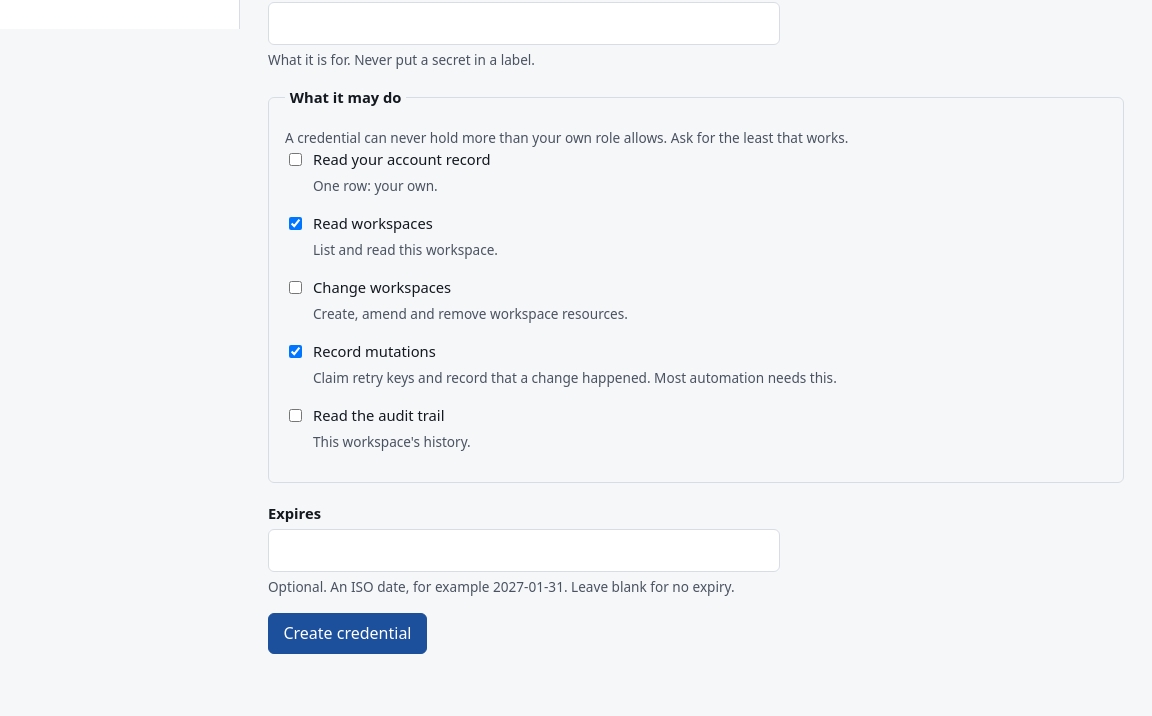
issuing › treats a replay as already-issued rather than as an empty secret
(page scrolled)
What coordinates should you click on to do the following:
click the button "Create credential"
I would click on:
 (347, 634)
Its box is [268, 613, 427, 654].
(page scrolled)
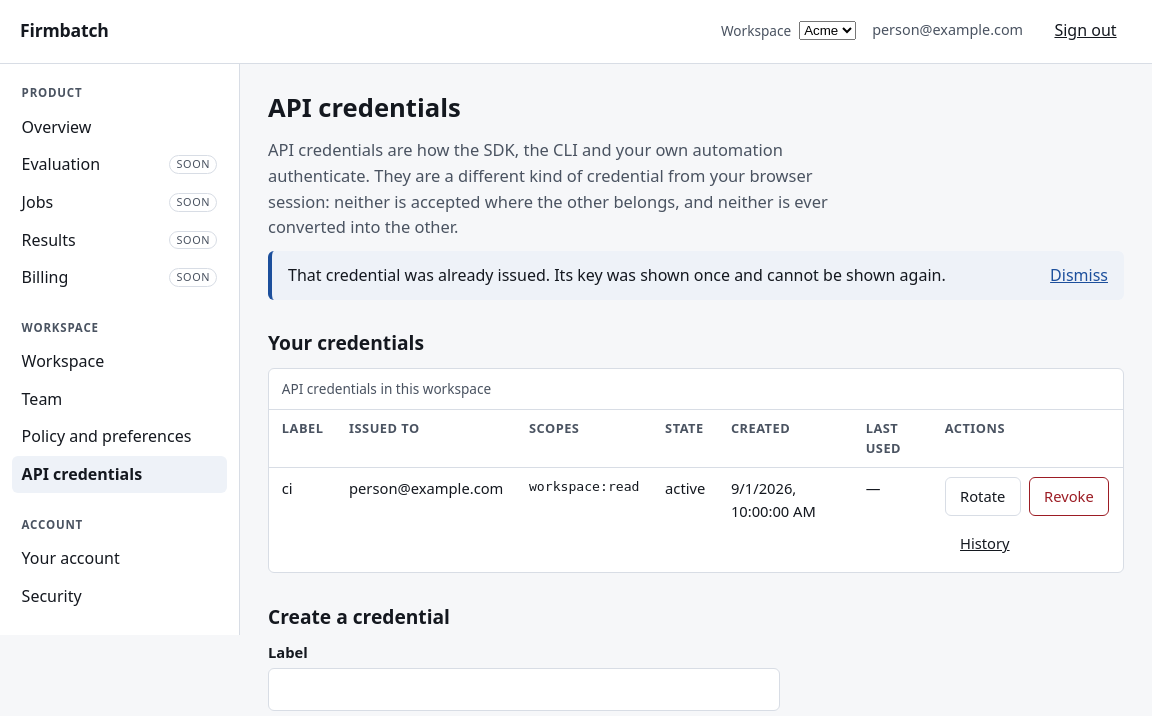
Result: the text "already issued" is shown at [288, 264, 946, 286]
